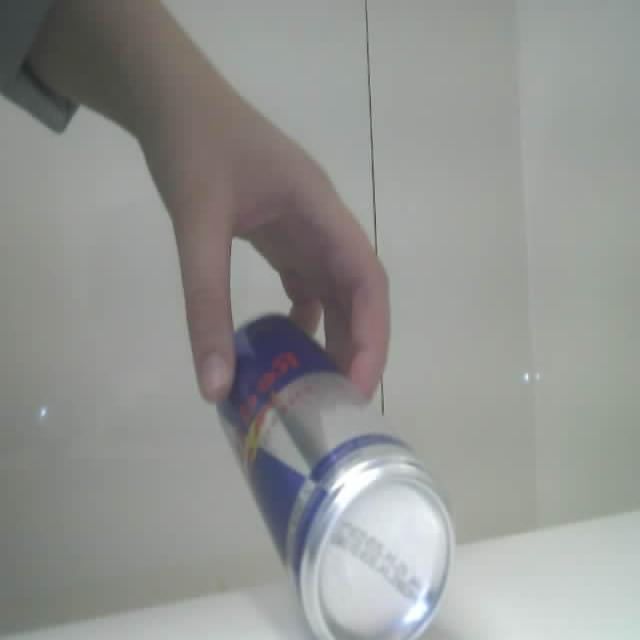redbull can: (218, 316, 453, 639)
